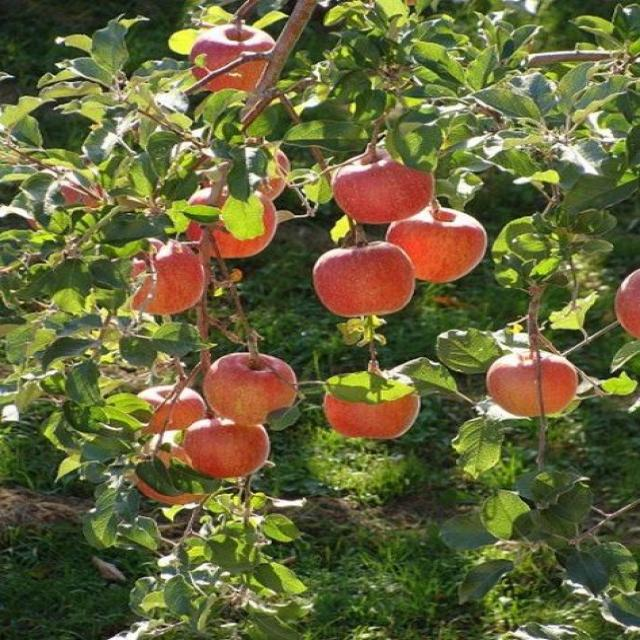Tao: (183, 349, 303, 427), (304, 244, 424, 320), (332, 148, 446, 227), (384, 201, 490, 284), (482, 350, 588, 418), (180, 193, 298, 254), (191, 16, 284, 91), (332, 371, 425, 445), (190, 141, 312, 193), (131, 243, 212, 311), (180, 416, 267, 479), (138, 390, 205, 435), (619, 267, 640, 353)
